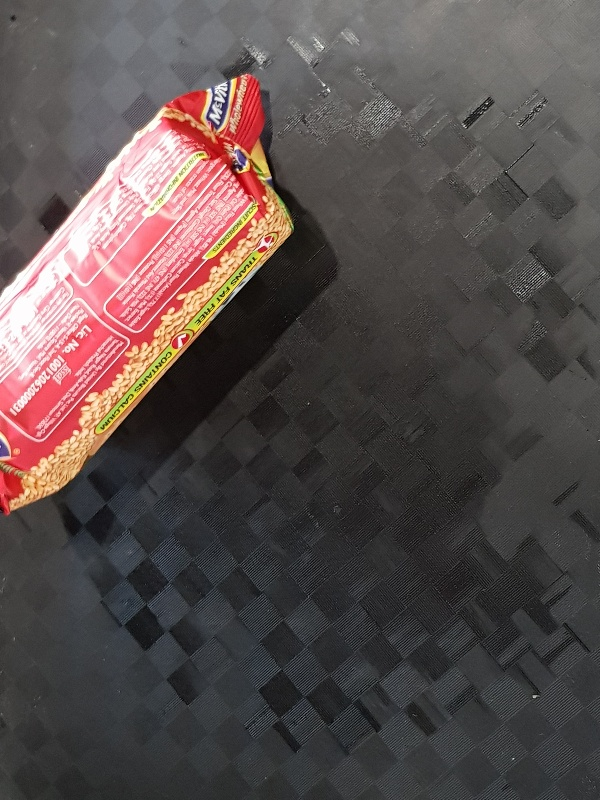McVitie's Wholewheat Marie: (1, 72, 294, 517)
